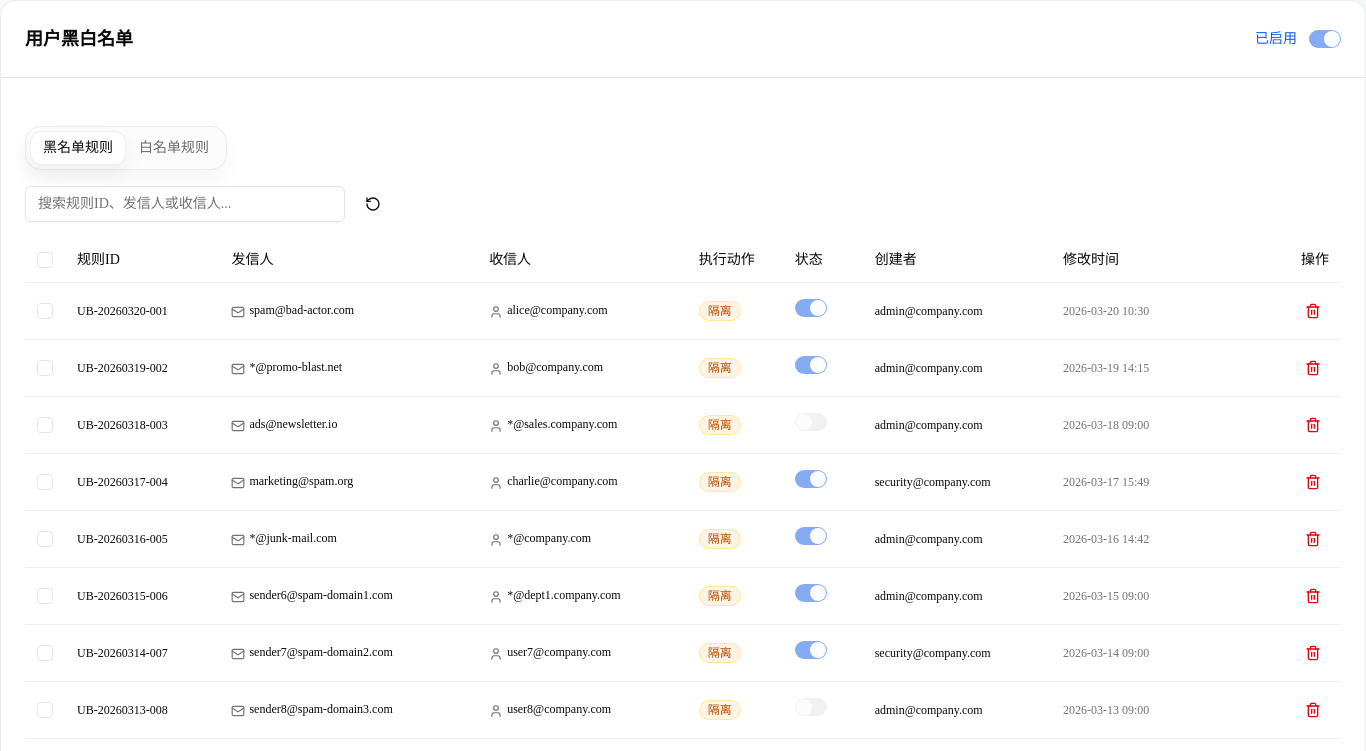
Test case: UserListPage › search "alice" filters to matching rows and resets pagination
Expected: the text "UB-20260320-001" is shown, [65,282,219,339]
Type "alice" into the search field with placeholder "搜索规则ID、发信人或收信人..." at (185, 204), box [25,186,345,222]
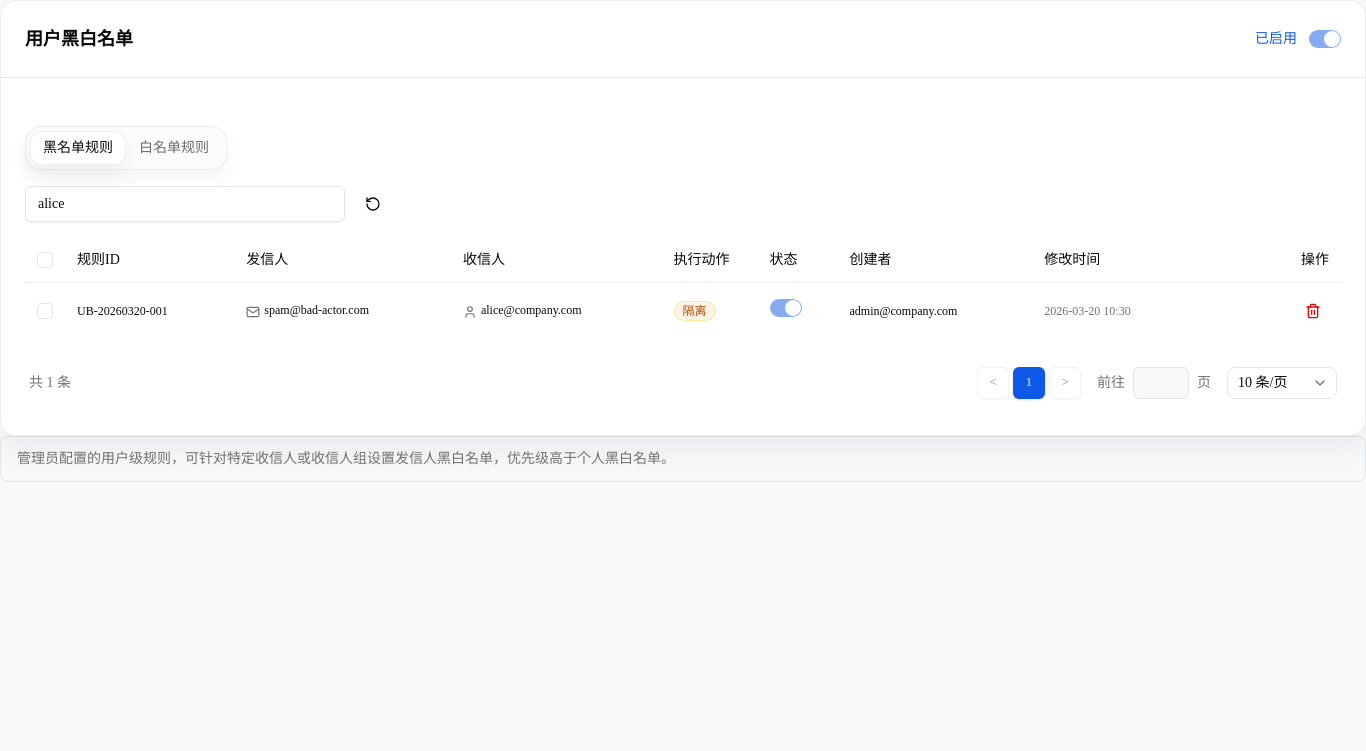
Expected: the text "UB-20260320-001" is shown, [65,282,234,338]
Expected: the text "UB-20260319-002" is gone
